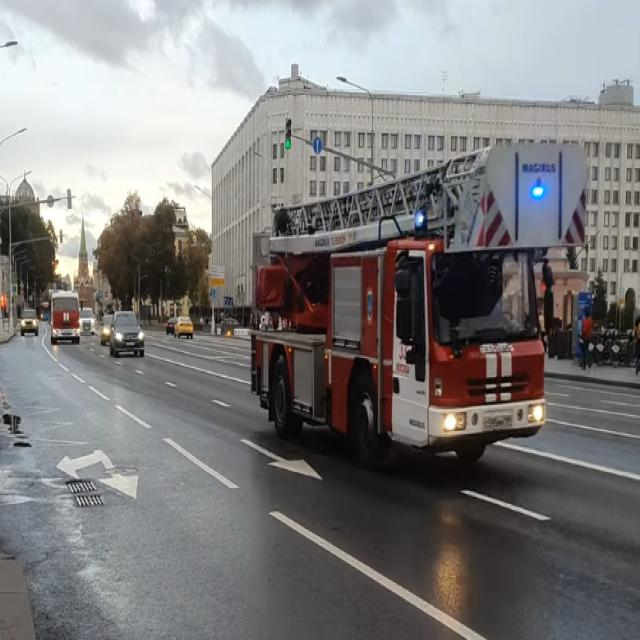fire fighting vehicle: (251, 142, 591, 477), (50, 291, 82, 346)
non emergency car: (111, 310, 147, 360), (21, 309, 40, 338), (176, 315, 194, 340), (82, 308, 97, 336), (101, 314, 112, 346), (166, 317, 177, 336)
